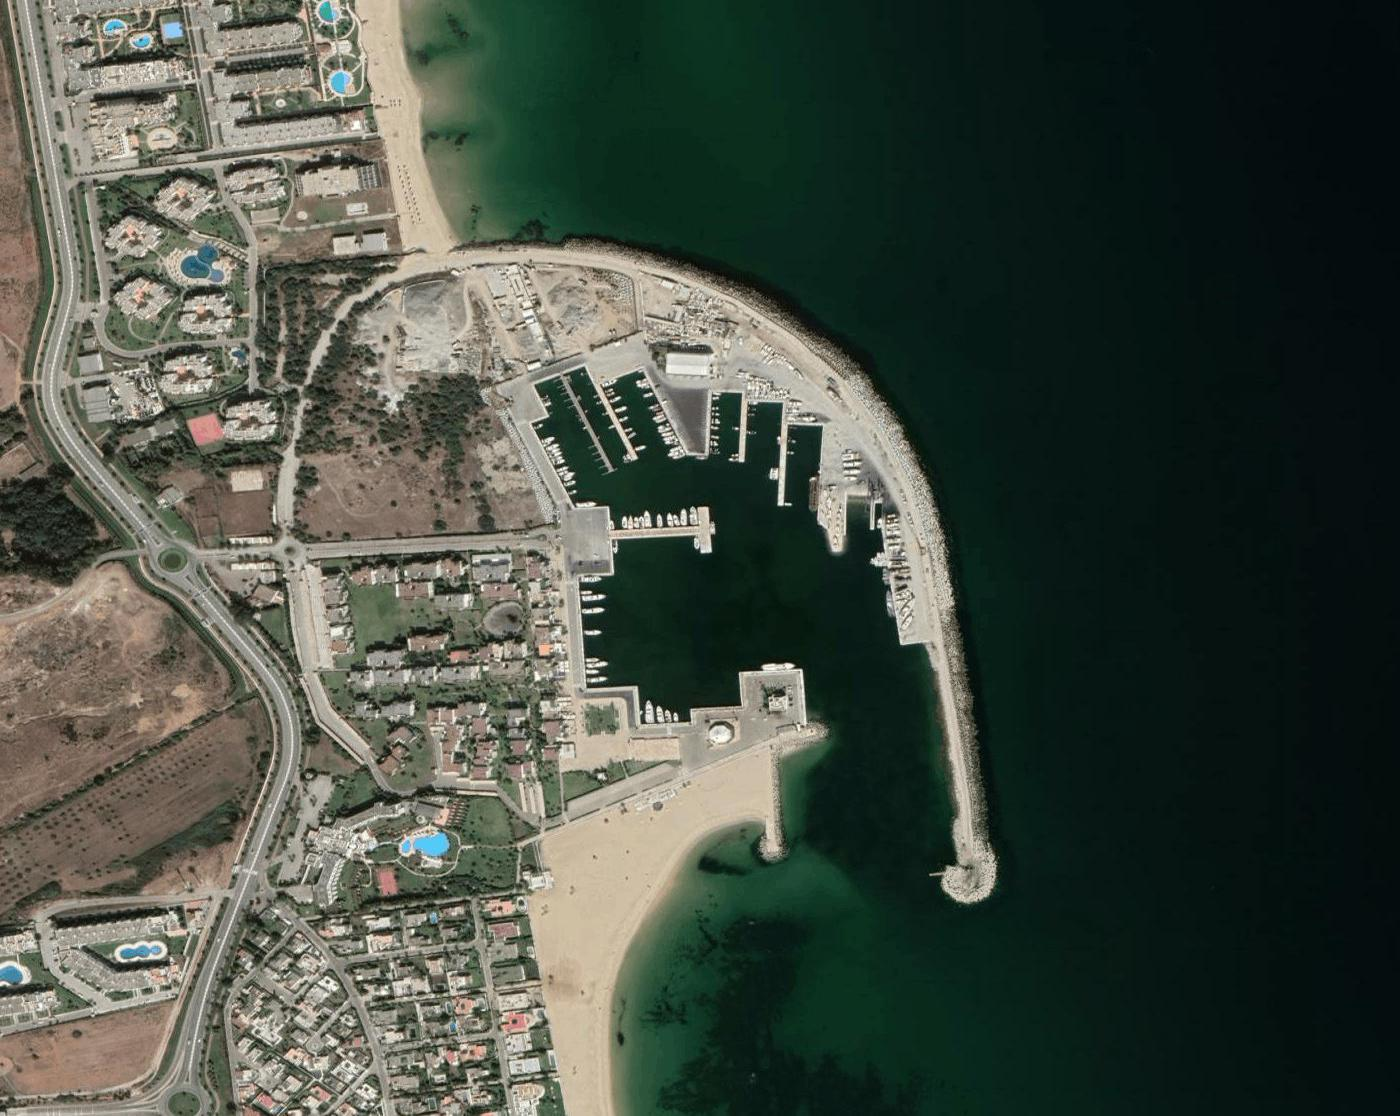harbor: (437, 204, 1019, 921)
